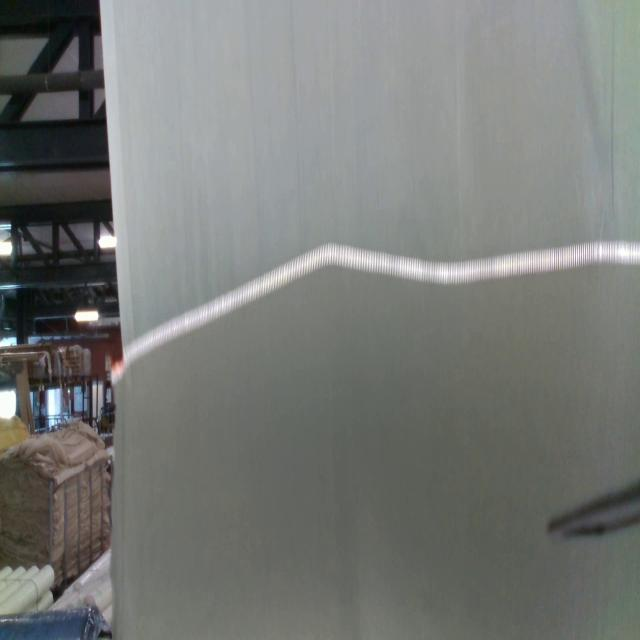crease: (609, 4, 618, 208)
